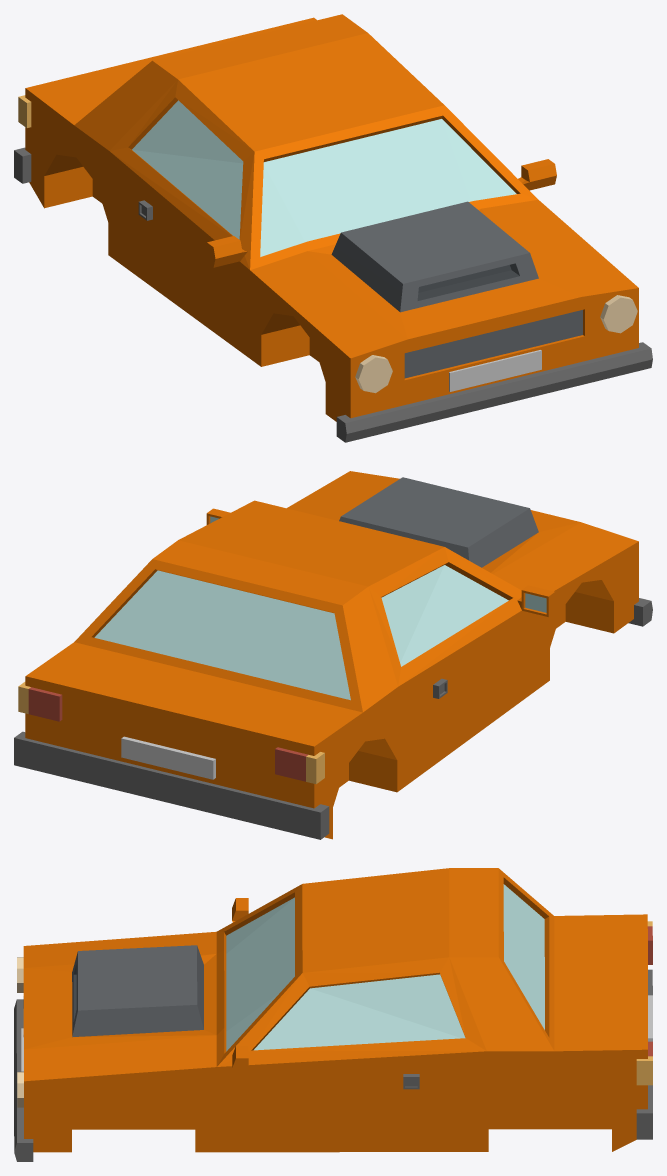
The model's file is Car_06.fbx.
The picture shows the model from 3 angles, top to bottom: view 1: azimuth 30°, elevation 25°; view 2: azimuth 150°, elevation 25°; view 3: azimuth 270°, elevation 25°; orthographic projection. The views are drawn at different scales.
Parts seen in each view (by area): view 1: Car_06; view 2: Car_06; view 3: Car_06.
Part boxes in pixels (bbox=[...]): Car_06: bbox=[14, 14, 652, 442]; Car_06: bbox=[14, 471, 652, 839]; Car_06: bbox=[14, 868, 652, 1161].
Size of the model in its own units: 199 by 103 by 336.
